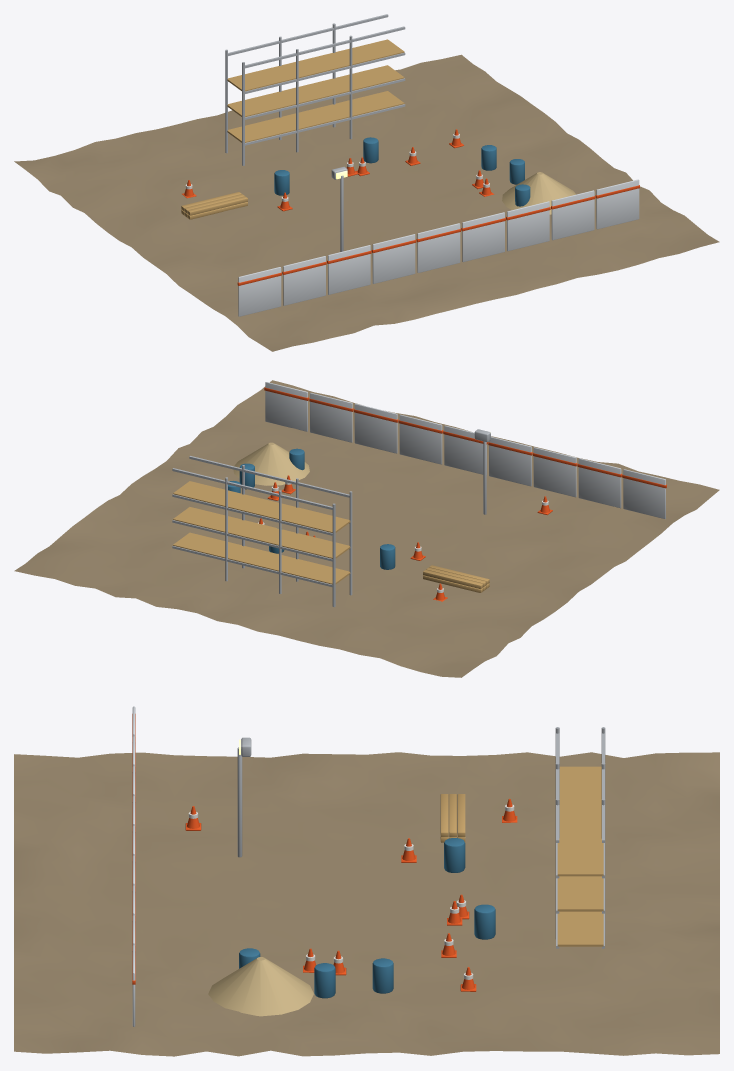
The model's file is loc_construction.glb.
3 renders of one model, top to bottom at view 1: azimuth 30°, elevation 25°; view 2: azimuth 150°, elevation 25°; view 3: azimuth 270°, elevation 25°, orthographic. The views are drawn at different scales.
Parts seen in each view (by area): view 1: Cn_Ground, Cn_Fence3, Cn_Fence7, Cn_Fence8, Cn_Fence0, Cn_Fence4, Cn_Fence6, Cn_Fence5, Cn_Fence1, Cn_Fence2, Cn_SandPile, Cn_Deck0_0 (+8 smaller); view 2: Cn_Ground, Cn_SandPile, Cn_Fence1, Cn_Fence2, Cn_Fence6, Cn_Fence5, Cn_Fence0, Cn_Fence7, Cn_Fence8, Cn_Fence3, Cn_Fence4, Cn_Deck0_1 (+8 smaller); view 3: Cn_Ground, Cn_SandPile, Cn_Deck2_2, Cn_Deck2_0, Cn_Deck2_1, Cn_Deck0_2, Cn_Deck1_2, Cn_Drum4, Cn_Drum0, Cn_Drum2, Cn_Drum3, Cn_LampPole.
Boxes of the visible parts, <box> form: Cn_Ground: <box>14,54,719,351</box>; Cn_Fence3: <box>372,234,415,283</box>; Cn_Fence7: <box>551,190,594,240</box>; Cn_Fence8: <box>596,179,639,229</box>; Cn_Fence0: <box>238,267,281,316</box>; Cn_Fence4: <box>417,223,460,272</box>; Cn_Fence6: <box>507,201,549,251</box>; Cn_Fence5: <box>462,212,504,262</box>; Cn_Fence1: <box>283,256,325,305</box>; Cn_Fence2: <box>328,245,370,294</box>; Cn_SandPile: <box>502,172,575,214</box>; Cn_Deck0_0: <box>227,117,295,142</box>; Cn_Ground: <box>14,380,719,677</box>; Cn_SandPile: <box>233,442,309,485</box>; Cn_Fence1: <box>578,458,621,508</box>; Cn_Fence2: <box>533,447,576,497</box>; Cn_Fence6: <box>354,403,397,453</box>; Cn_Fence5: <box>399,414,442,464</box>; Cn_Fence0: <box>623,469,665,518</box>; Cn_Fence7: <box>310,393,352,442</box>; Cn_Fence8: <box>265,382,307,431</box>; Cn_Fence3: <box>489,436,531,486</box>; Cn_Fence4: <box>444,425,486,474</box>; Cn_Deck0_1: <box>281,533,350,558</box>; Cn_Ground: <box>14,752,719,1056</box>; Cn_SandPile: <box>208,957,313,1016</box>; Cn_Deck2_2: <box>557,838,603,876</box>; Cn_Deck2_0: <box>557,911,603,946</box>; Cn_Deck2_1: <box>557,876,603,911</box>; Cn_Deck0_2: <box>559,766,601,802</box>; Cn_Deck1_2: <box>559,802,601,838</box>; Cn_Drum4: <box>314,963,335,998</box>; Cn_Drum0: <box>372,958,393,993</box>; Cn_Drum2: <box>474,904,495,939</box>; Cn_Drum3: <box>444,838,465,872</box>; Cn_LampPole: <box>237,747,242,857</box>.
Bounding box in the file's own units: 20 × 4.5 × 20.
